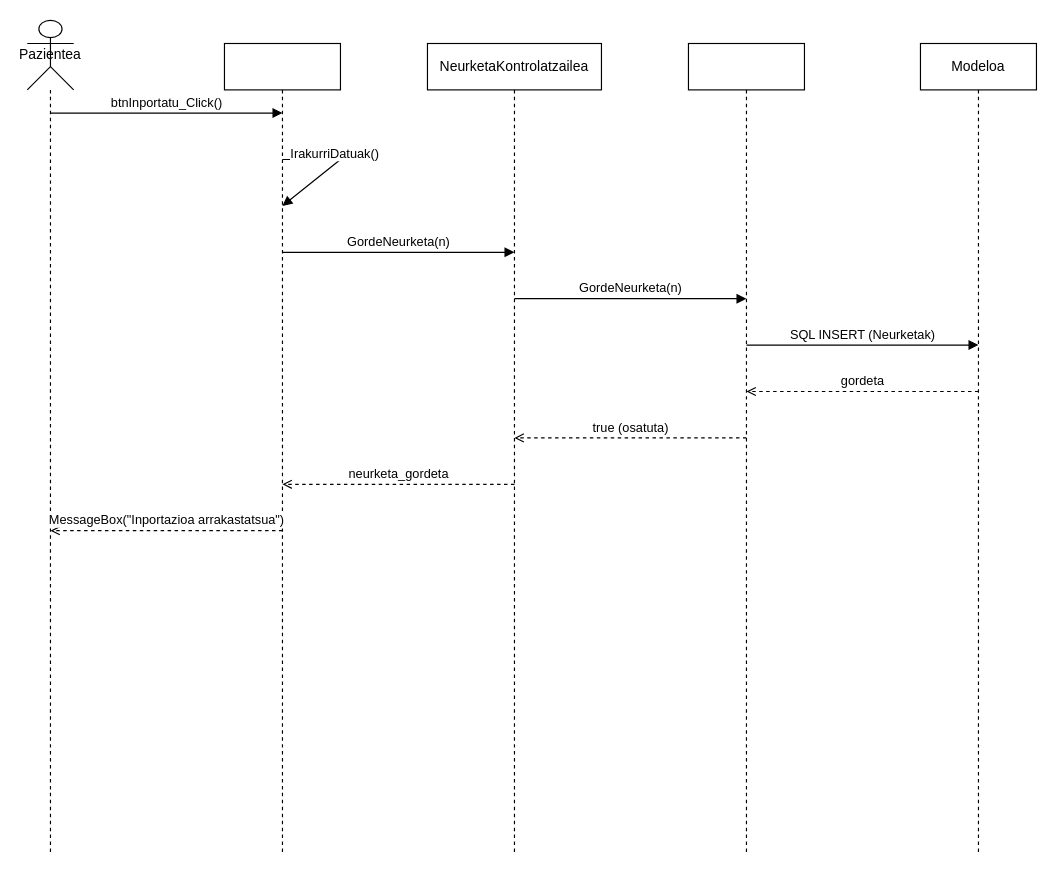
Image size: 1057x876. Some labels were removed from this diagram. Each missing label, with the box of its shape:
NeurketaDB: (687, 42, 804, 855)
TentsiometroNeurketak: (223, 42, 340, 855)
